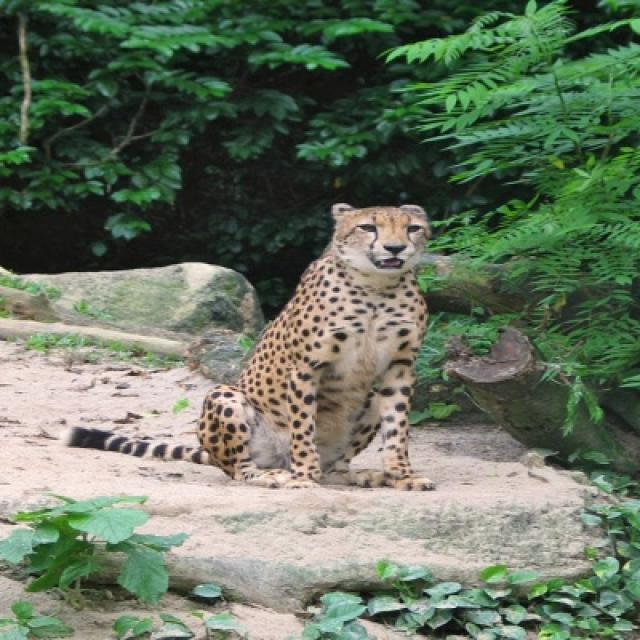Cheetah: (197, 205, 434, 491)
